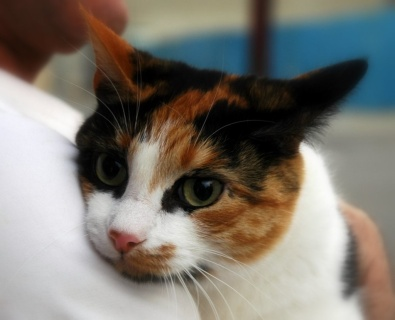Cat: (47, 0, 370, 319)
